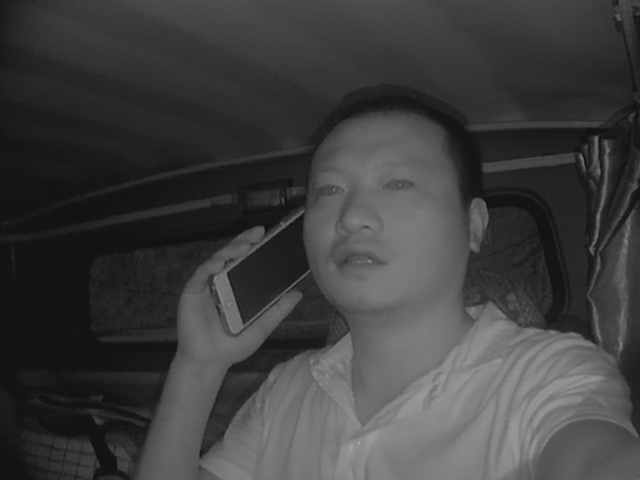hand: (168, 223, 296, 365)
